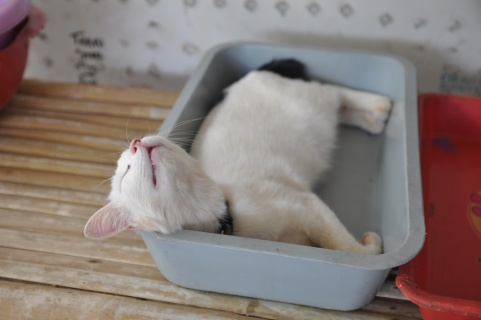Cat: (83, 57, 392, 260)
